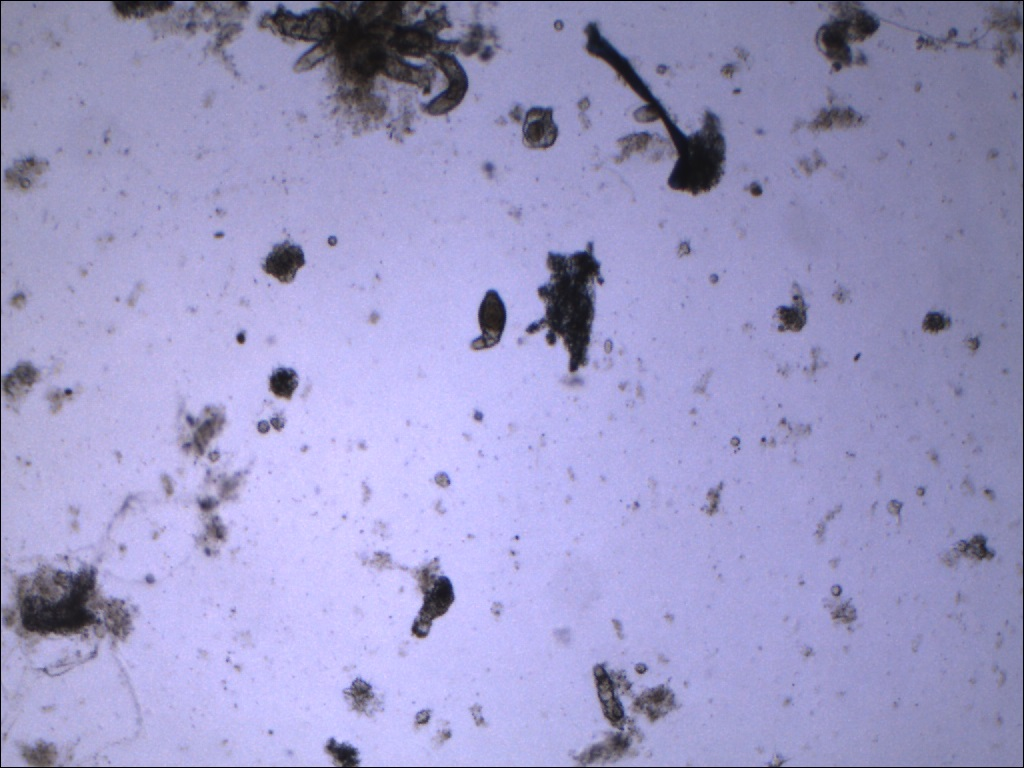amoeba: (577, 14, 733, 197), (527, 237, 608, 378)
